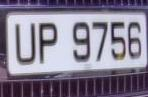5: (110, 17, 128, 67)
6: (127, 16, 144, 67)
7: (92, 16, 111, 69)
9: (69, 16, 93, 70)
P: (36, 16, 61, 70)
U: (12, 17, 38, 71)
